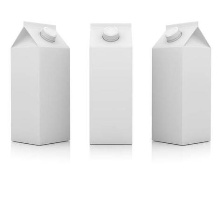carton: (147, 17, 216, 150), (6, 18, 76, 149), (86, 19, 135, 146)
